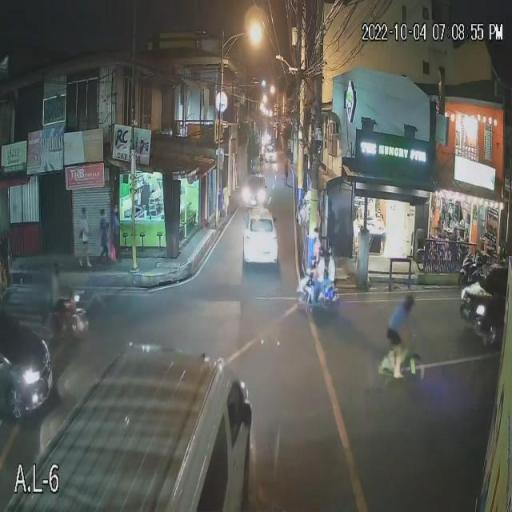helmet: (327, 242, 334, 256), (318, 247, 325, 257)
motorcycle: (295, 282, 340, 308)
rider: (312, 260, 324, 310), (322, 259, 335, 300)
